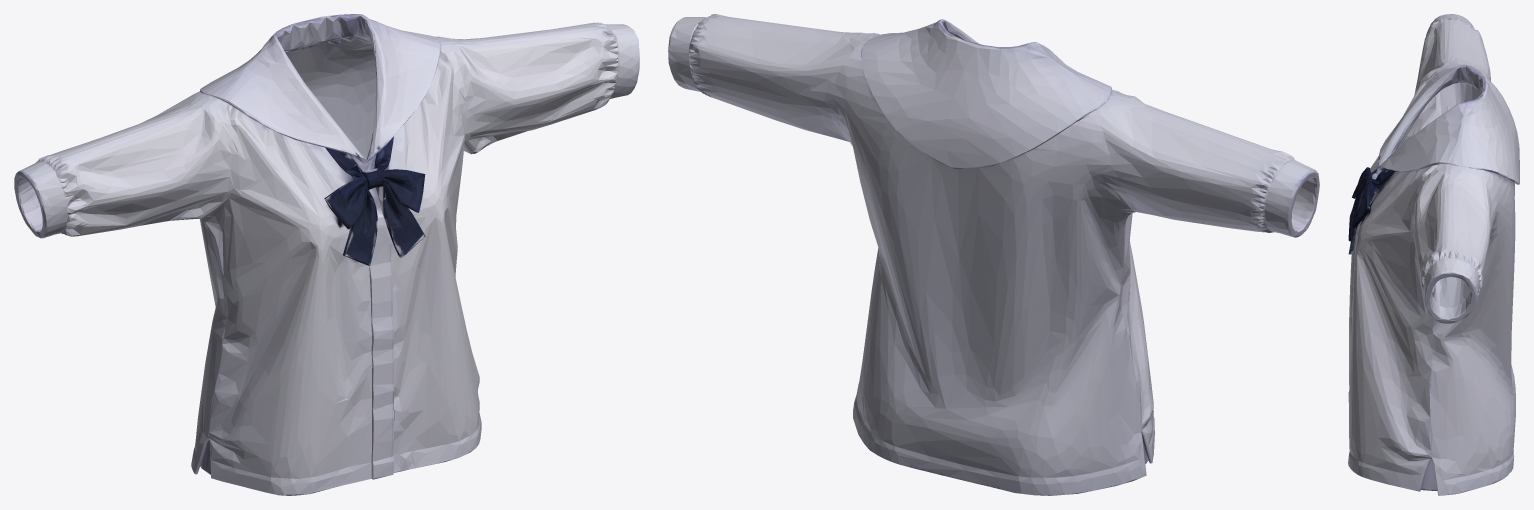
File: blouse_original_light.obj
The picture shows the model from 3 angles, left to right: view 1: azimuth 30°, elevation 25°; view 2: azimuth 150°, elevation 25°; view 3: azimuth 270°, elevation 25°; orthographic projection. The views are drawn at different scales.
Parts seen in each view (by area): view 1: node_0; view 2: node_0; view 3: node_0.
Part boxes in pixels (x1,y1,x2,y2): node_0: [14, 14, 639, 495]; node_0: [668, 14, 1319, 495]; node_0: [1348, 14, 1519, 495].
Bounding box in the file's own units: 110 × 71.41 × 30.87.
Materials: 1 (1 with a texture image).
